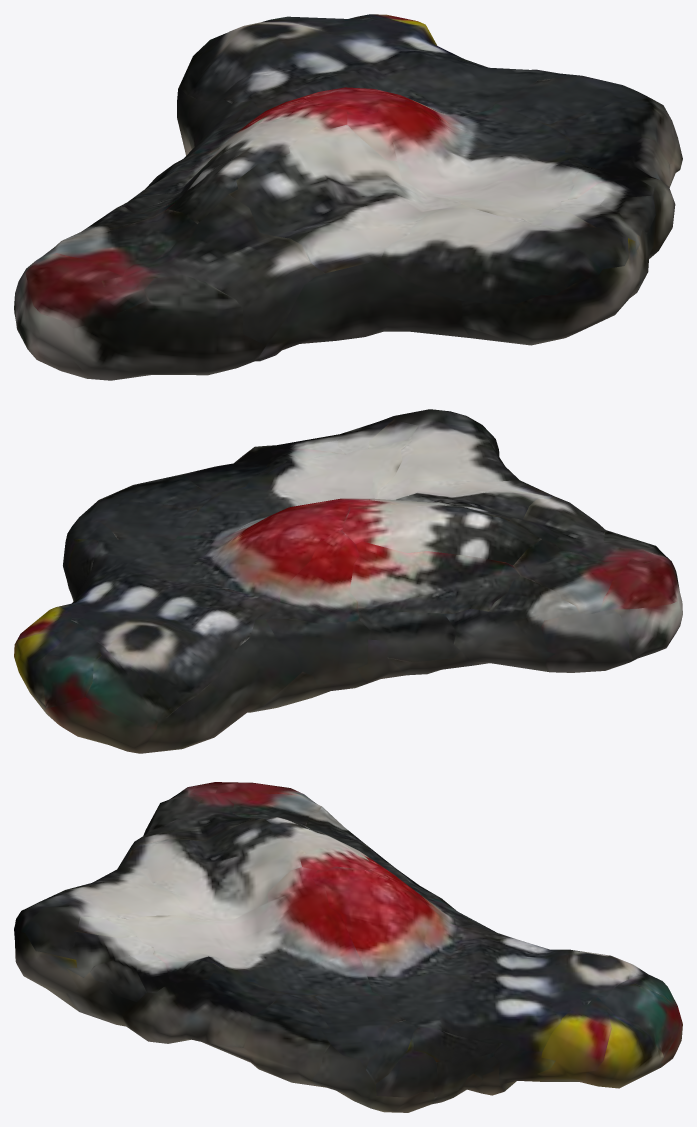
Rendered from hall.glb.
The picture shows the model from 3 angles, top to bottom: view 1: azimuth 30°, elevation 25°; view 2: azimuth 150°, elevation 25°; view 3: azimuth 270°, elevation 25°; orthographic projection. The views are drawn at different scales.
Bounding box in the file's own units: 0.4916 × 0.1326 × 0.5066.
1 material, 1 textured.
